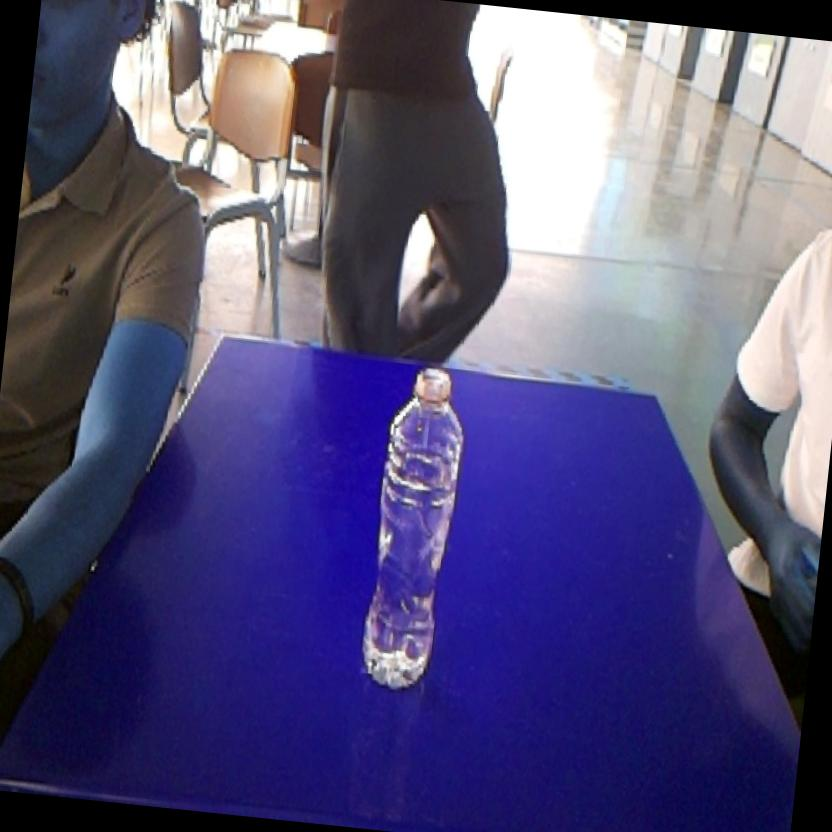no_cap: (346, 354, 480, 700)
